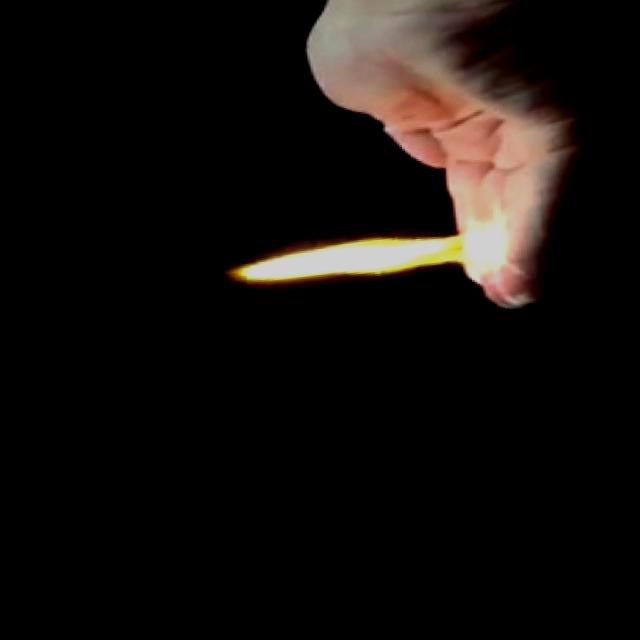helmet: (217, 215, 521, 309)
